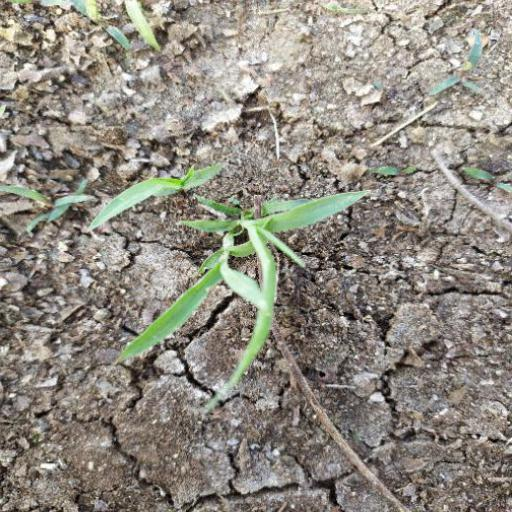weed: (91, 158, 372, 411)
